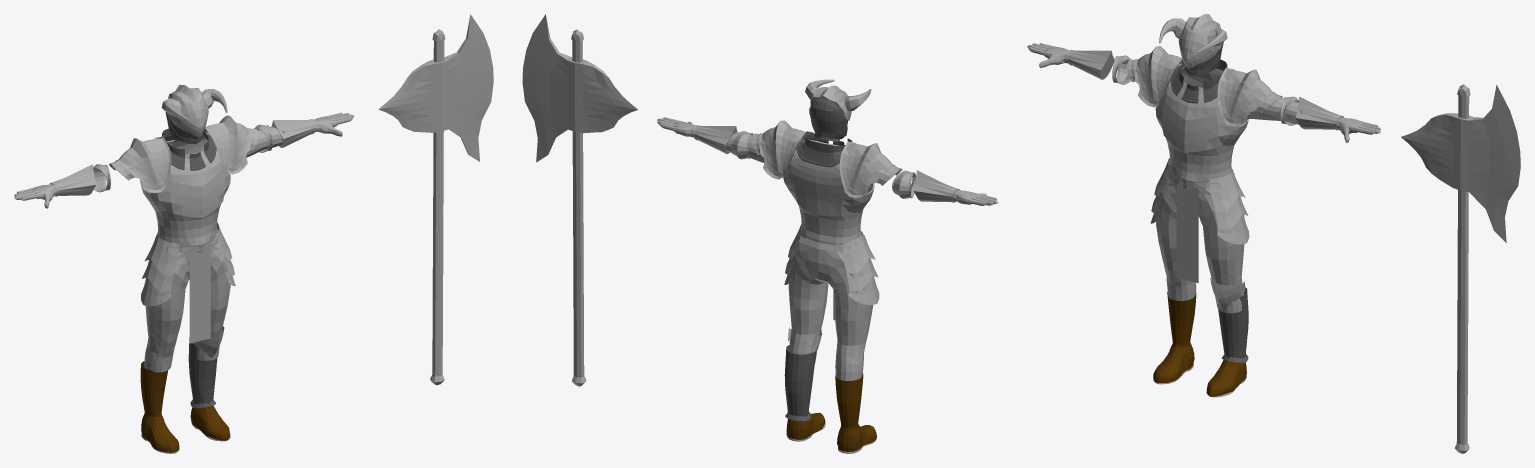
Rendered from gori.fbx.
3 renders of one model, left to right at view 1: azimuth 30°, elevation 25°; view 2: azimuth 150°, elevation 25°; view 3: azimuth 330°, elevation 25°, orthographic. The views are drawn at different scales.
Visible parts, largest first — view 1: polySurface57; view 2: polySurface57; view 3: polySurface57.
Boxes of the visible parts, x1,y1,x2,y2 form: polySurface57: (14,14,493,453); polySurface57: (522,14,998,453); polySurface57: (1027,14,1520,453).
Bounding box in the file's own units: 270 × 197 × 37.8.
